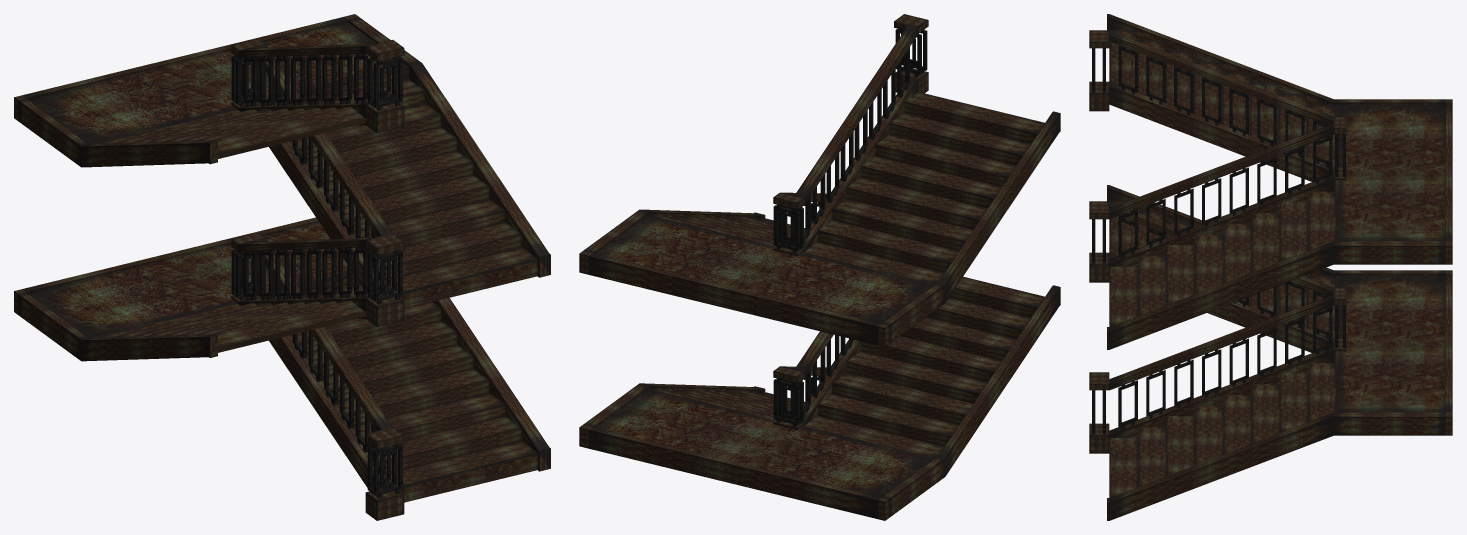
File: Stairway 1.fbx
3 views of the same model, side by side, from view 1: azimuth 30°, elevation 25°; view 2: azimuth 150°, elevation 25°; view 3: azimuth 270°, elevation 25° (orthographic). The views are drawn at different scales.
Parts seen in each view (by area): view 1: Stairs, Stair 1 End; view 2: Stairs, Stair 1 End; view 3: Stairs, Stair 1 End.
Part boxes in pixels (bbox=[...]): Stairs: bbox=[14, 14, 550, 502]; Stair 1 End: bbox=[365, 40, 404, 520]; Stairs: bbox=[579, 25, 1060, 520]; Stair 1 End: bbox=[894, 14, 928, 93]; Stairs: bbox=[1107, 14, 1452, 520]; Stair 1 End: bbox=[1089, 30, 1109, 453].
Bounding box in the file's own units: 10.03 × 10.48 × 13.1.
